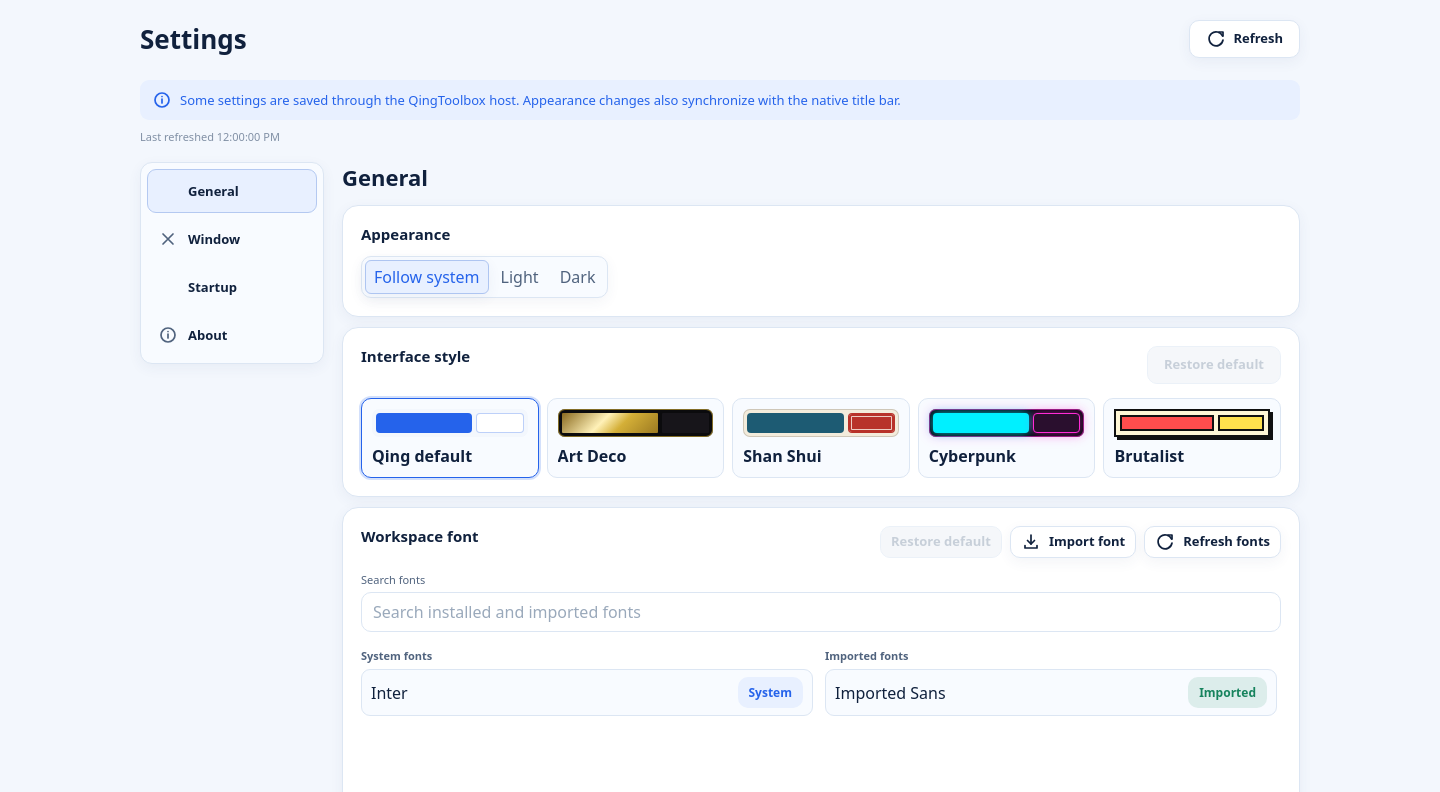
Test case: SettingsPage information architecture › disables animation duration but keeps the popup display time editable
This screenshot has width=1440, height=792.
Click the button "Window". click: (232, 239)
box: [147,217,317,261]
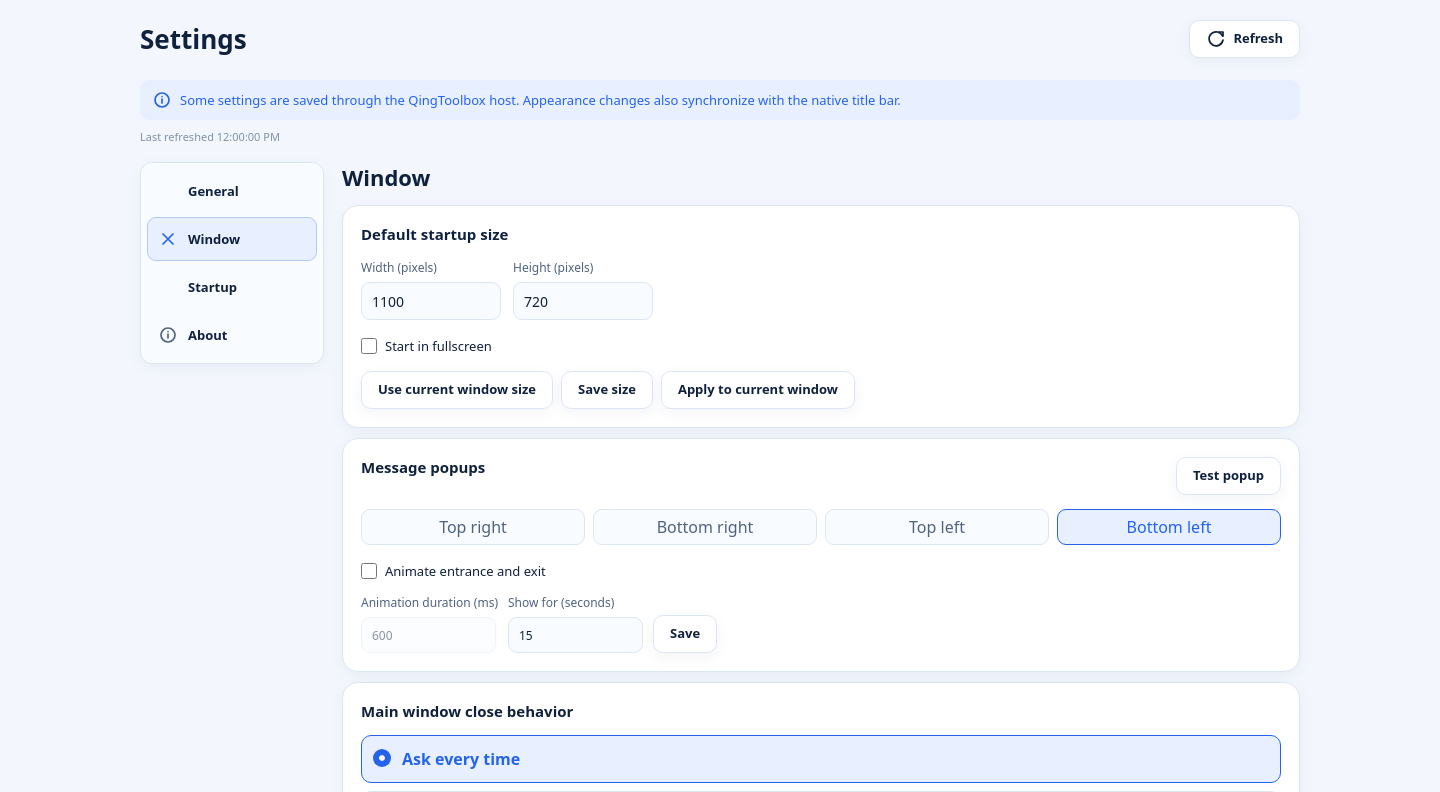
Expected: the radio button labelled "Bottom left" is shown, [1057,509,1281,545]
Expected: the number field labelled "Animation duration (ms)" is disabled, [361,617,496,653]
Expected: the number field labelled "Show for (seconds)" is enabled, [508,617,643,653]
